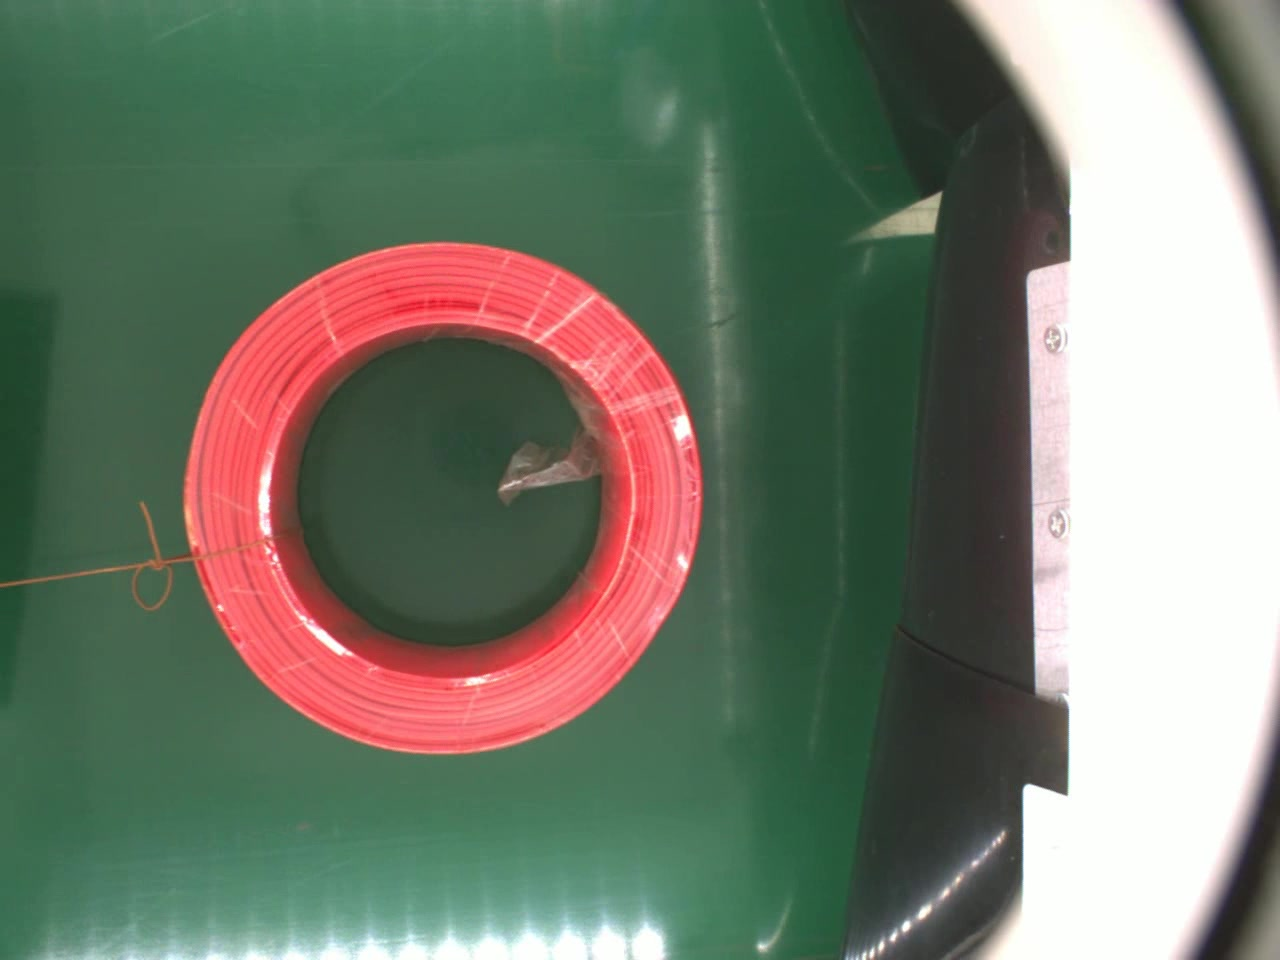red: (182, 240, 707, 761)
